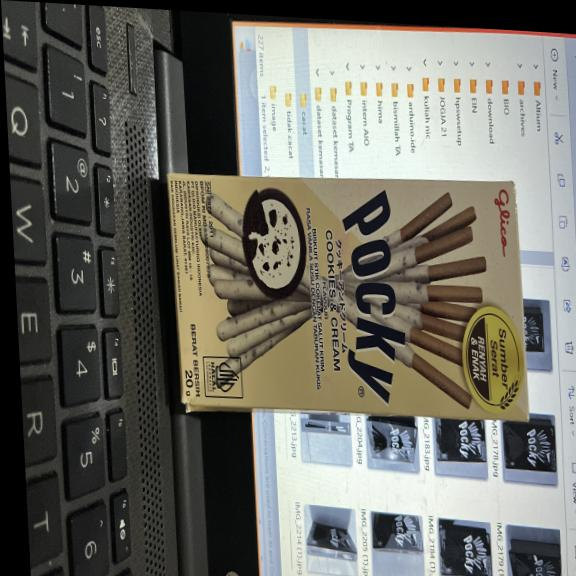Kertas: (171, 159, 527, 431)
